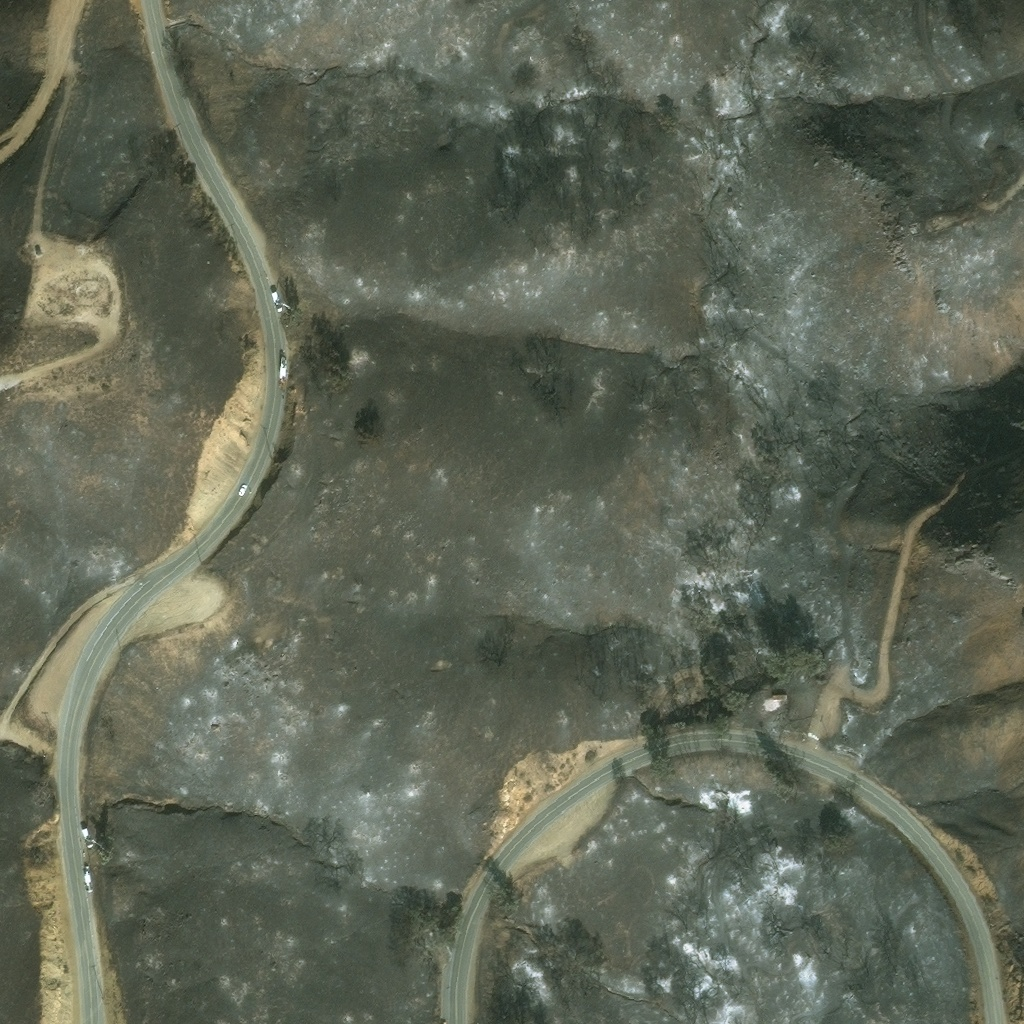0 no-damage: (771, 693, 787, 702), (35, 246, 41, 254), (211, 726, 219, 732)
